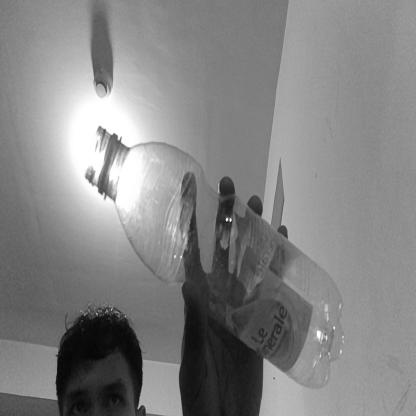plastic_bottles: (84, 125, 344, 387)
